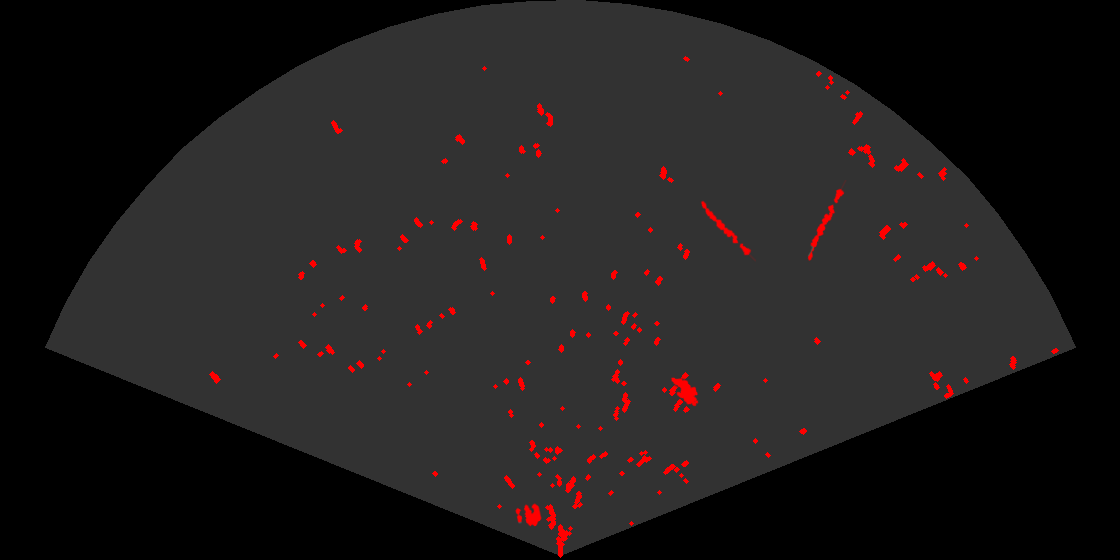AUV: (669, 376, 700, 408)
ball: (514, 501, 543, 528)
chain: (699, 199, 756, 263), (806, 180, 848, 263)
